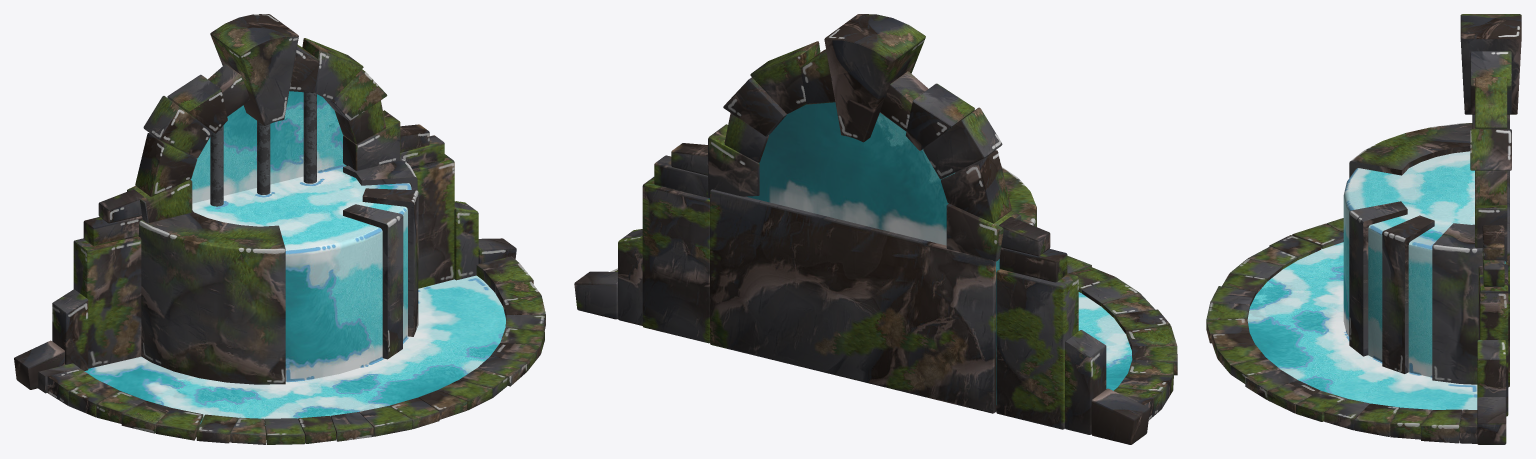
File: fuente.fbx
The picture shows the model from 3 angles, left to right: view 1: azimuth 30°, elevation 25°; view 2: azimuth 150°, elevation 25°; view 3: azimuth 270°, elevation 25°; orthographic projection. The views are drawn at different scales.
Parts seen in each view (by area): view 1: defaultMaterial.016, defaultMaterial.014, defaultMaterial.017, defaultMaterial.015, defaultMaterial.009, defaultMaterial.013, defaultMaterial.012, defaultMaterial.011, defaultMaterial.006, defaultMaterial.001, defaultMaterial.005, defaultMaterial.004 (+5 smaller); view 2: defaultMaterial.003, defaultMaterial.017, defaultMaterial.016, defaultMaterial.009, defaultMaterial.013, defaultMaterial.015, defaultMaterial.012, defaultMaterial.006, defaultMaterial.011, defaultMaterial.010, defaultMaterial.005, defaultMaterial.004 (+3 smaller); view 3: defaultMaterial.016, defaultMaterial.014, defaultMaterial.015, defaultMaterial.017, defaultMaterial.013, defaultMaterial.011, defaultMaterial.010, defaultMaterial.007, defaultMaterial.008, defaultMaterial.003.
Boxes of the visible parts, bbox=[...] form: defaultMaterial.016: bbox=[84, 91, 505, 425]; defaultMaterial.014: bbox=[138, 157, 418, 384]; defaultMaterial.017: bbox=[127, 14, 400, 223]; defaultMaterial.015: bbox=[38, 256, 545, 444]; defaultMaterial.009: bbox=[73, 236, 141, 368]; defaultMaterial.013: bbox=[412, 154, 454, 288]; defaultMaterial.012: bbox=[52, 289, 88, 370]; defaultMaterial.011: bbox=[454, 201, 478, 280]; defaultMaterial.006: bbox=[14, 340, 64, 389]; defaultMaterial.001: bbox=[303, 92, 316, 183]; defaultMaterial.005: bbox=[83, 216, 142, 246]; defaultMaterial.004: bbox=[98, 189, 143, 223]; defaultMaterial.003: bbox=[710, 189, 996, 413]; defaultMaterial.017: bbox=[708, 14, 1021, 261]; defaultMaterial.016: bbox=[708, 102, 1132, 404]; defaultMaterial.009: bbox=[996, 269, 1078, 429]; defaultMaterial.013: bbox=[642, 177, 709, 343]; defaultMaterial.015: bbox=[610, 255, 1177, 420]; defaultMaterial.012: bbox=[1065, 330, 1106, 434]; defaultMaterial.006: bbox=[1091, 388, 1149, 444]; defaultMaterial.011: bbox=[618, 229, 642, 325]; defaultMaterial.010: bbox=[574, 271, 617, 319]; defaultMaterial.005: bbox=[999, 247, 1067, 282]; defaultMaterial.004: bbox=[999, 217, 1050, 256]; defaultMaterial.016: bbox=[1247, 151, 1505, 410]; defaultMaterial.014: bbox=[1349, 123, 1482, 384]; defaultMaterial.015: bbox=[1206, 218, 1477, 443]; defaultMaterial.017: bbox=[1460, 14, 1521, 261]; defaultMaterial.013: bbox=[1478, 263, 1508, 416]; defaultMaterial.011: bbox=[1477, 340, 1506, 397]; defaultMaterial.010: bbox=[1477, 397, 1506, 444]; defaultMaterial.007: bbox=[1482, 225, 1504, 260]; defaultMaterial.008: bbox=[1482, 247, 1504, 286]; defaultMaterial.003: bbox=[1505, 170, 1509, 387].
Bounding box in the file's own units: 510 × 300 × 284.
Materials: 6 (6 with a texture image).
